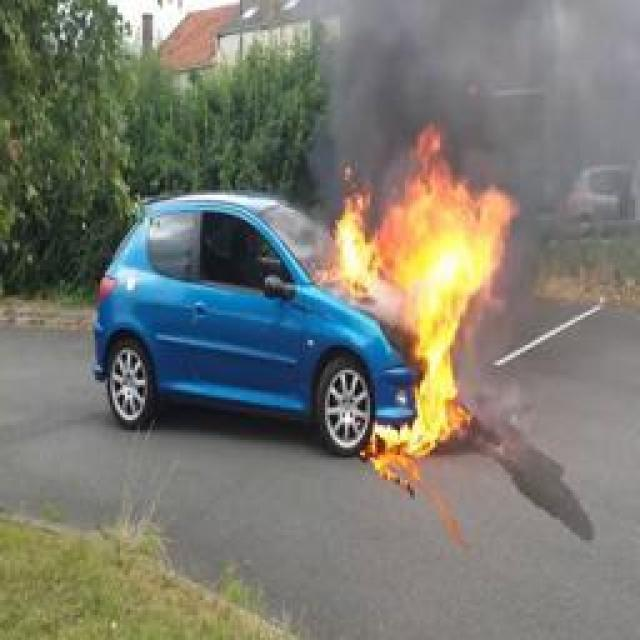Fire: (334, 129, 516, 459)
